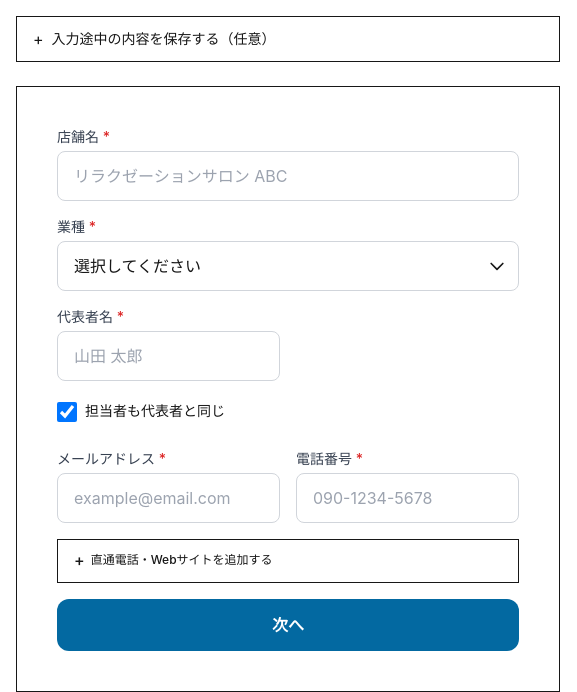
Test: ステップの切り替え › 各ステップのボタンの高さをそろえる
In the field labelled "店舗名 *": (288, 176) [57,151,519,201], type "合成施設"
Select "ヘアサロン" in the dropdown labelled "業種 *": (288, 266) [57,241,519,291]
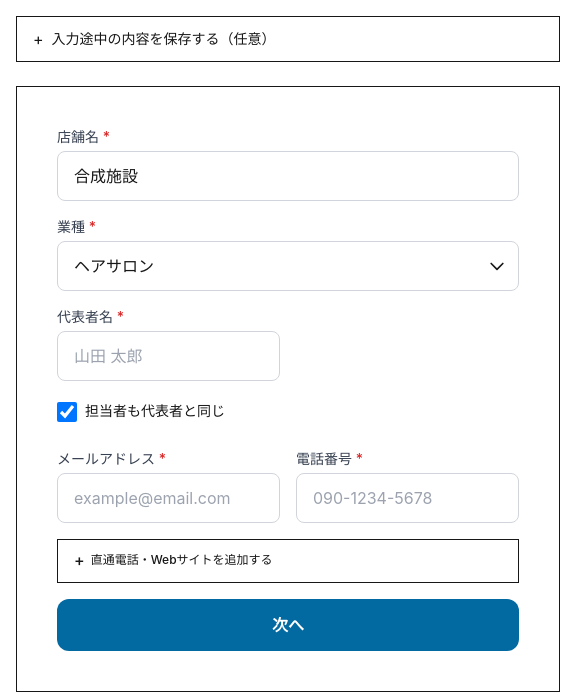
In the field labelled "代表者名 *": (168, 356) [57,331,280,381], type "合成代表"
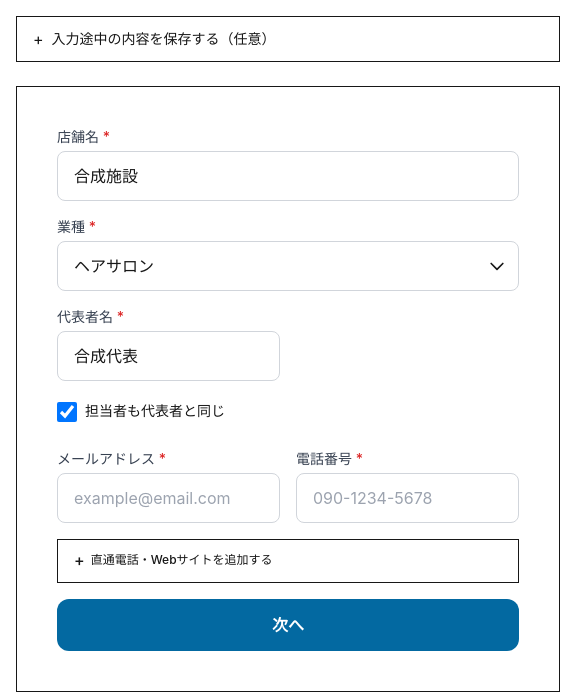
In the field labelled "メールアドレス *": (168, 498) [57,473,280,523], type "fixture@example.invalid"
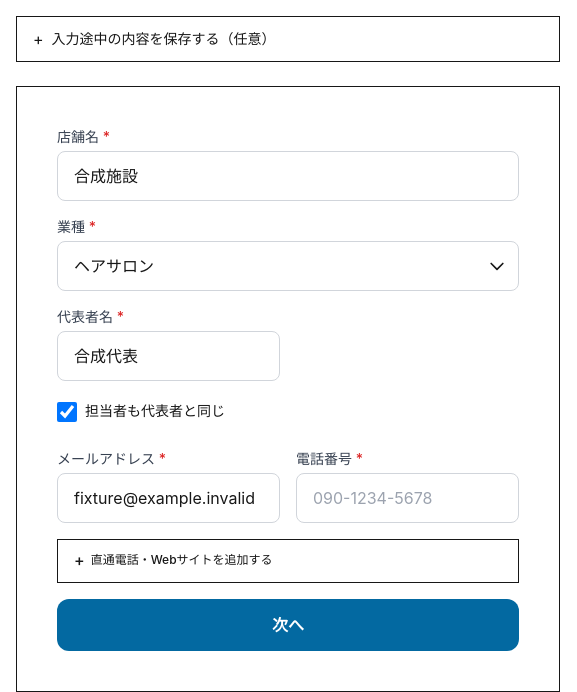
In the field labelled "電話番号 *": (408, 498) [296,473,519,523], type "09012345678"
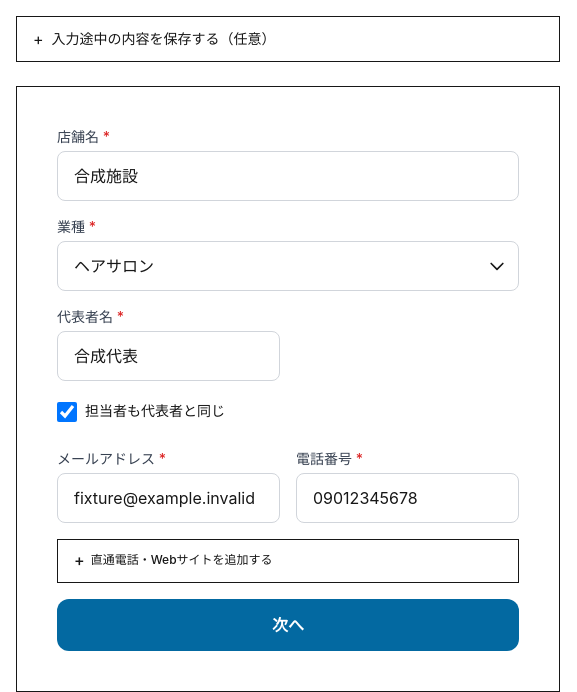
Click the button "次へ": (288, 625) [57,599,519,651]
(page scrolled)
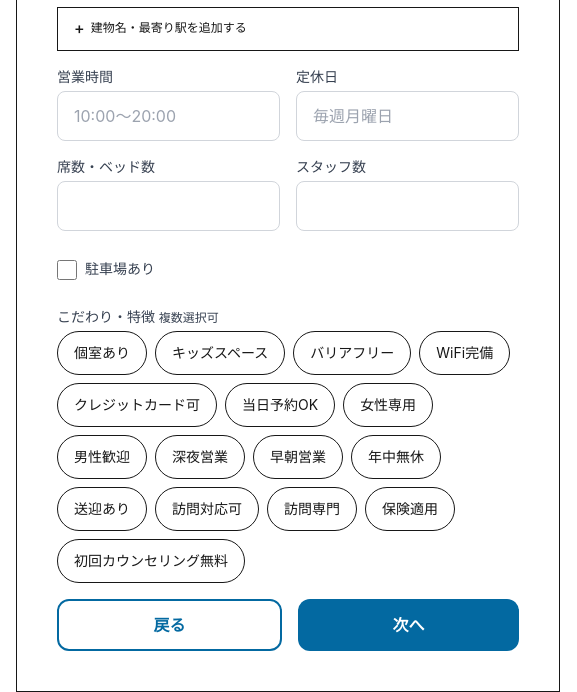
Click the button "次へ": (408, 625) [298,599,519,651]
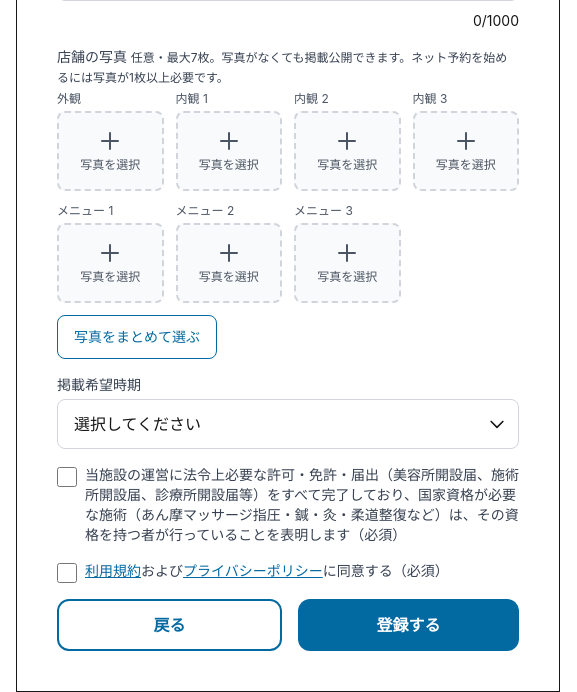
Now the button "登録する" is shown, box [298,599,519,651]
